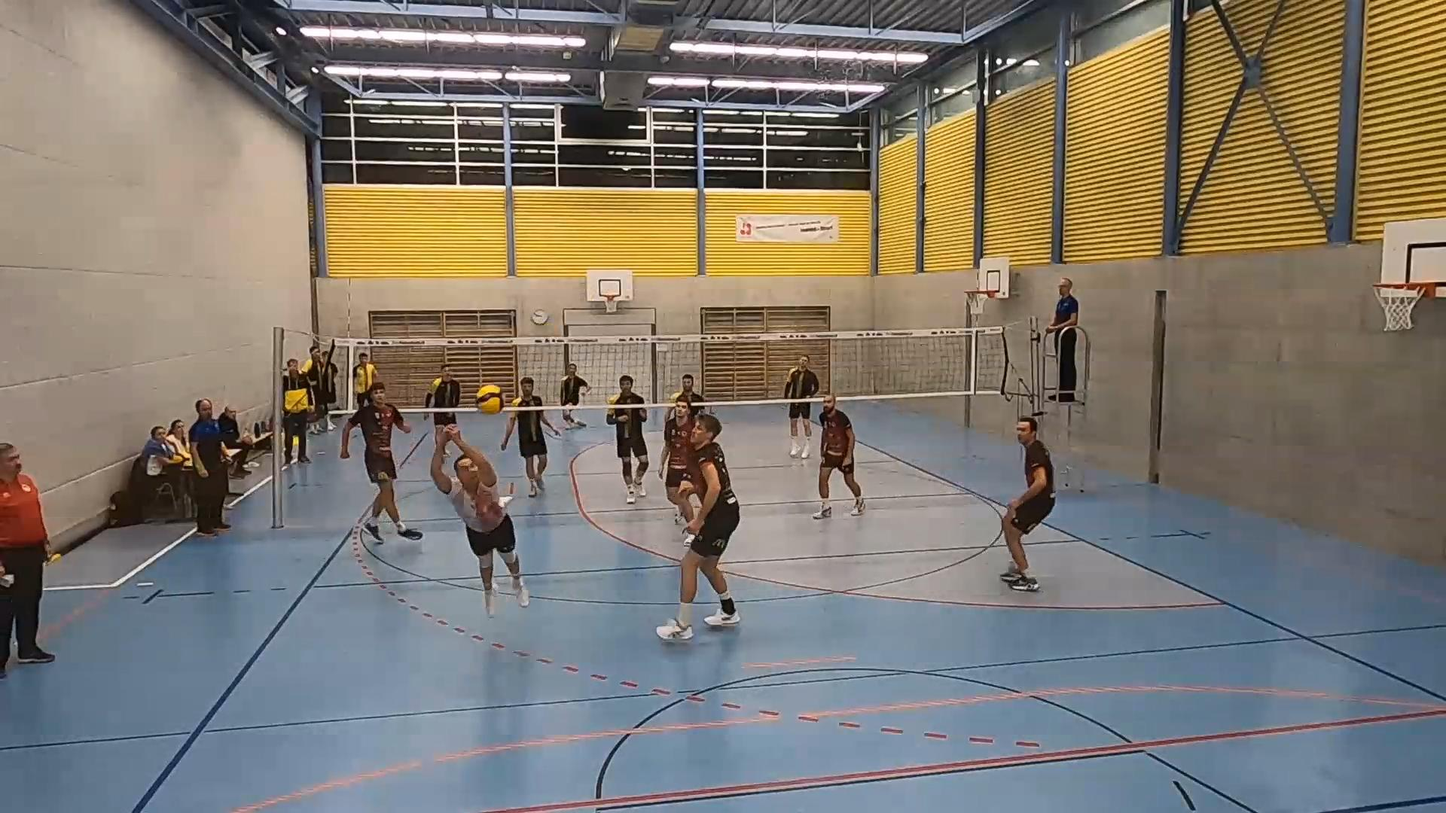Dig: (431, 428, 536, 621)
Player: (656, 414, 740, 640), (340, 382, 423, 541), (1001, 416, 1054, 591), (813, 394, 864, 519), (606, 374, 648, 504), (501, 410, 560, 496), (659, 394, 696, 521), (783, 355, 819, 458), (560, 364, 590, 428), (424, 364, 461, 409), (670, 374, 706, 415)
ball: (473, 390, 505, 415)
